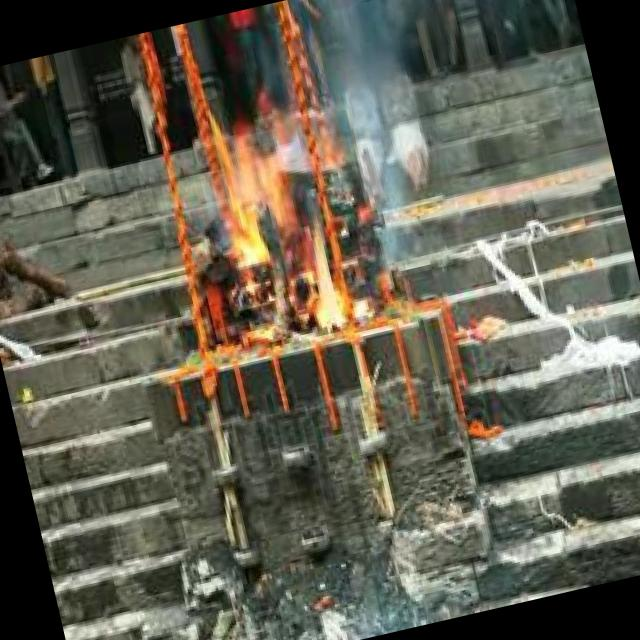Fire: (186, 90, 318, 275)
Smoke: (289, 214, 364, 338)
